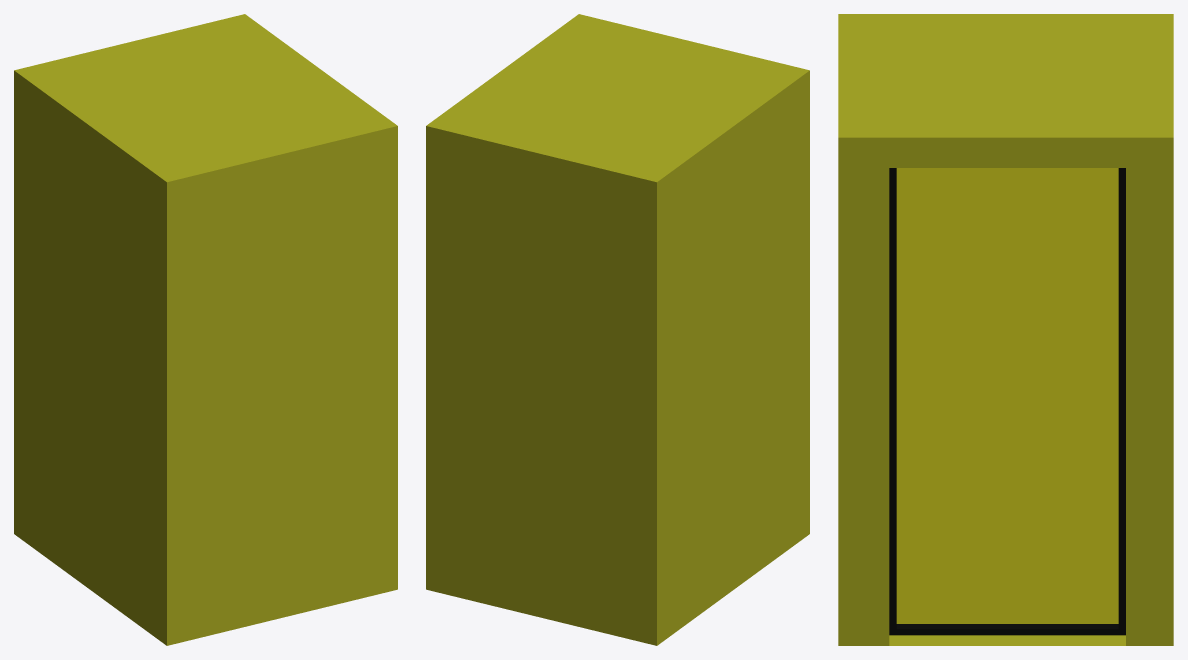
File: puertas minijuego ver.fbx
3 renders of one model, left to right at view 1: azimuth 30°, elevation 25°; view 2: azimuth 150°, elevation 25°; view 3: azimuth 270°, elevation 25°, orthographic. The views are drawn at different scales.
Parts seen in each view (by area): view 1: Cube, Cube.001; view 2: Cube, Cube.001; view 3: Cube, Cube.001.
Part boxes in pixels (box(x1,y1,x2,y2)): Cube: box(14, 14, 397, 645); Cube.001: box(35, 114, 143, 628); Cube: box(426, 14, 809, 645); Cube.001: box(678, 115, 786, 629); Cube: box(838, 14, 1173, 645); Cube.001: box(896, 168, 1118, 623).
Size of the model in its own units: 200 by 384 by 229.
